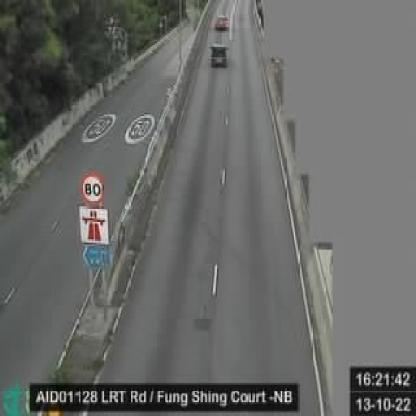Car: (209, 43, 228, 70), (214, 14, 229, 31)
